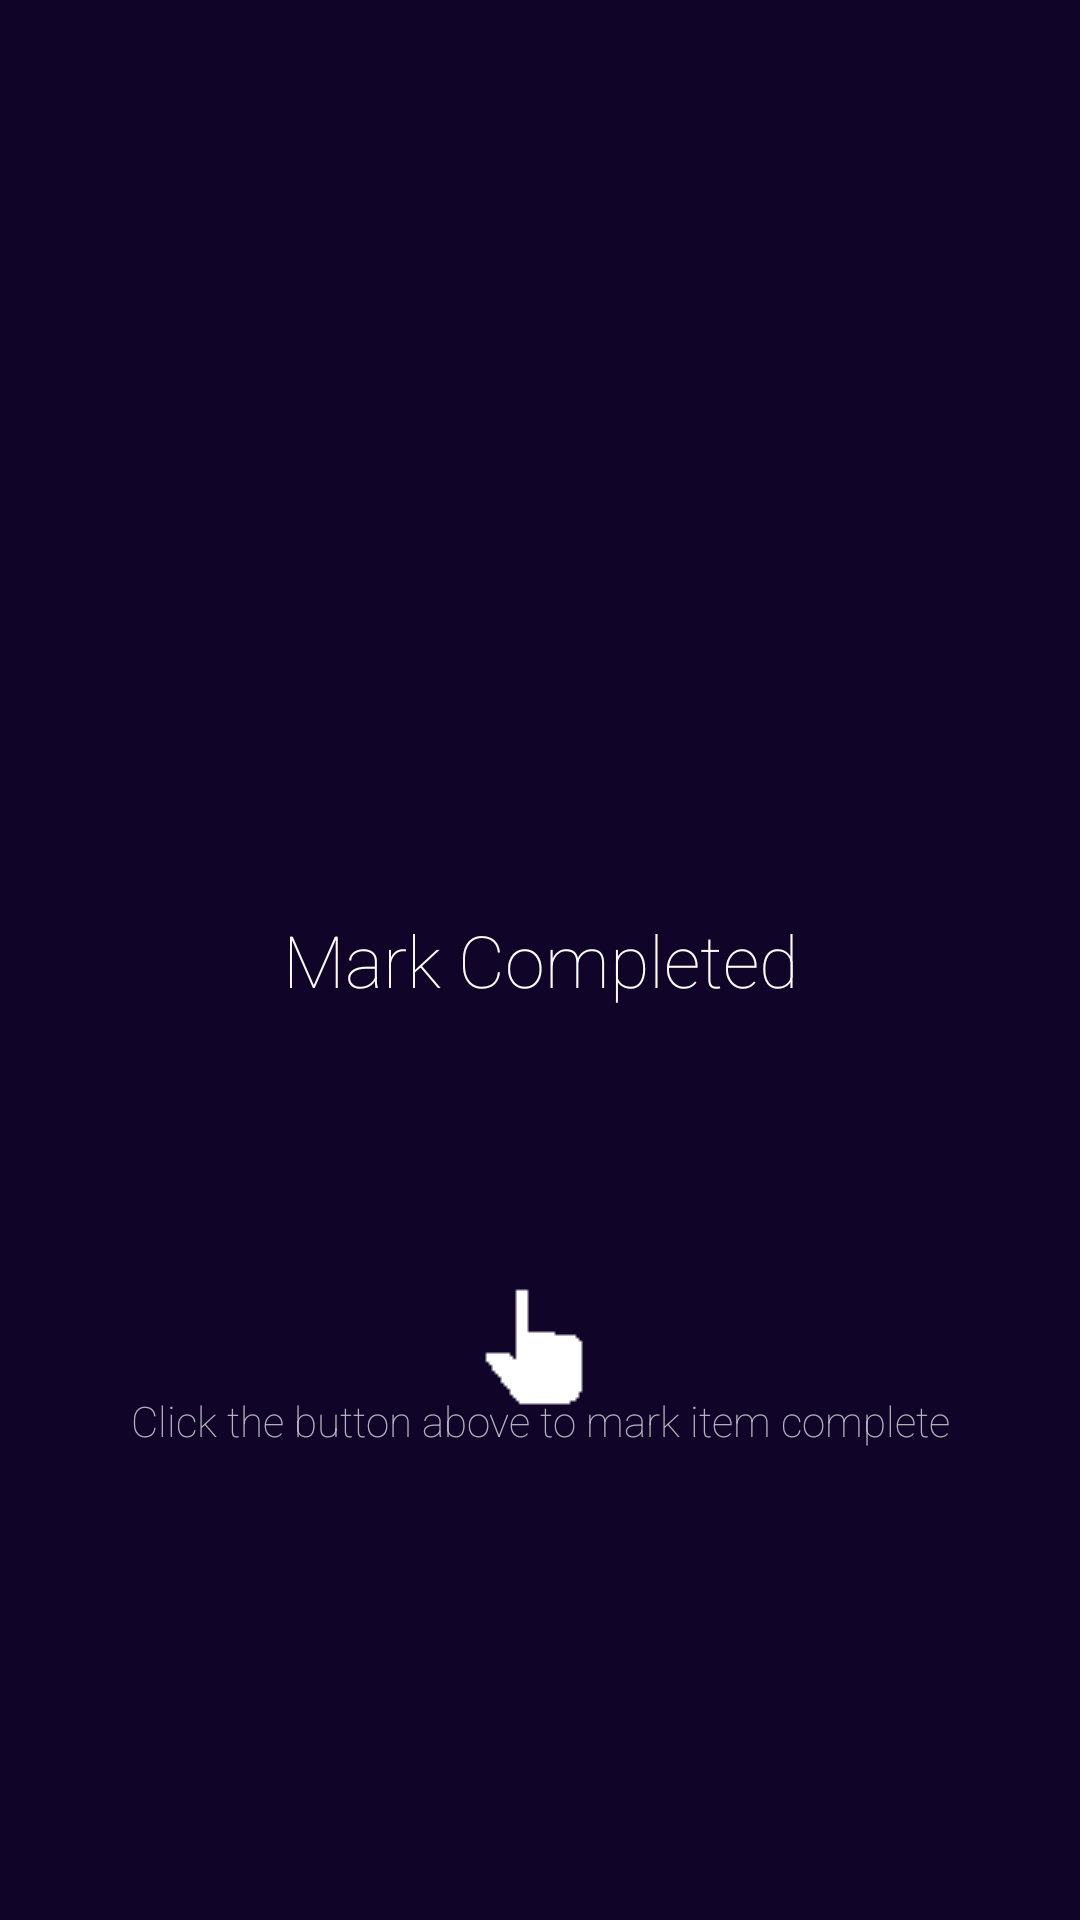

Icons on this 1080w x 1920h Android screen, each with the point to tap as [x,y]:
pointer: [534,1347]
